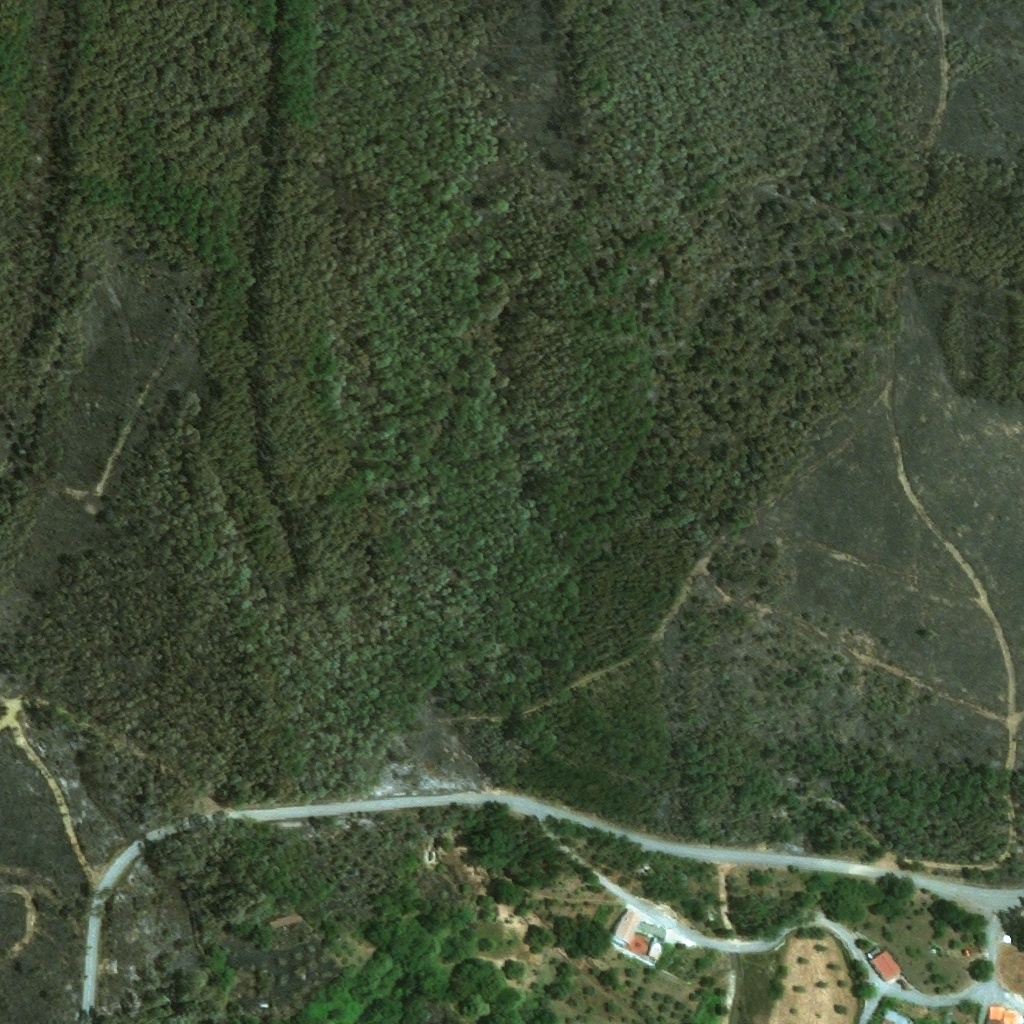0 no-damage: (868, 948, 904, 983), (613, 911, 644, 945), (270, 913, 304, 937), (987, 1005, 1021, 1023), (883, 1009, 918, 1023), (648, 942, 664, 961)
